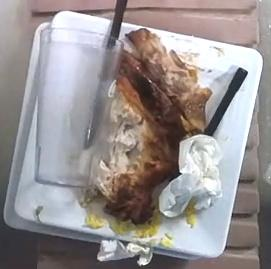chicken: (95, 76, 185, 223)
